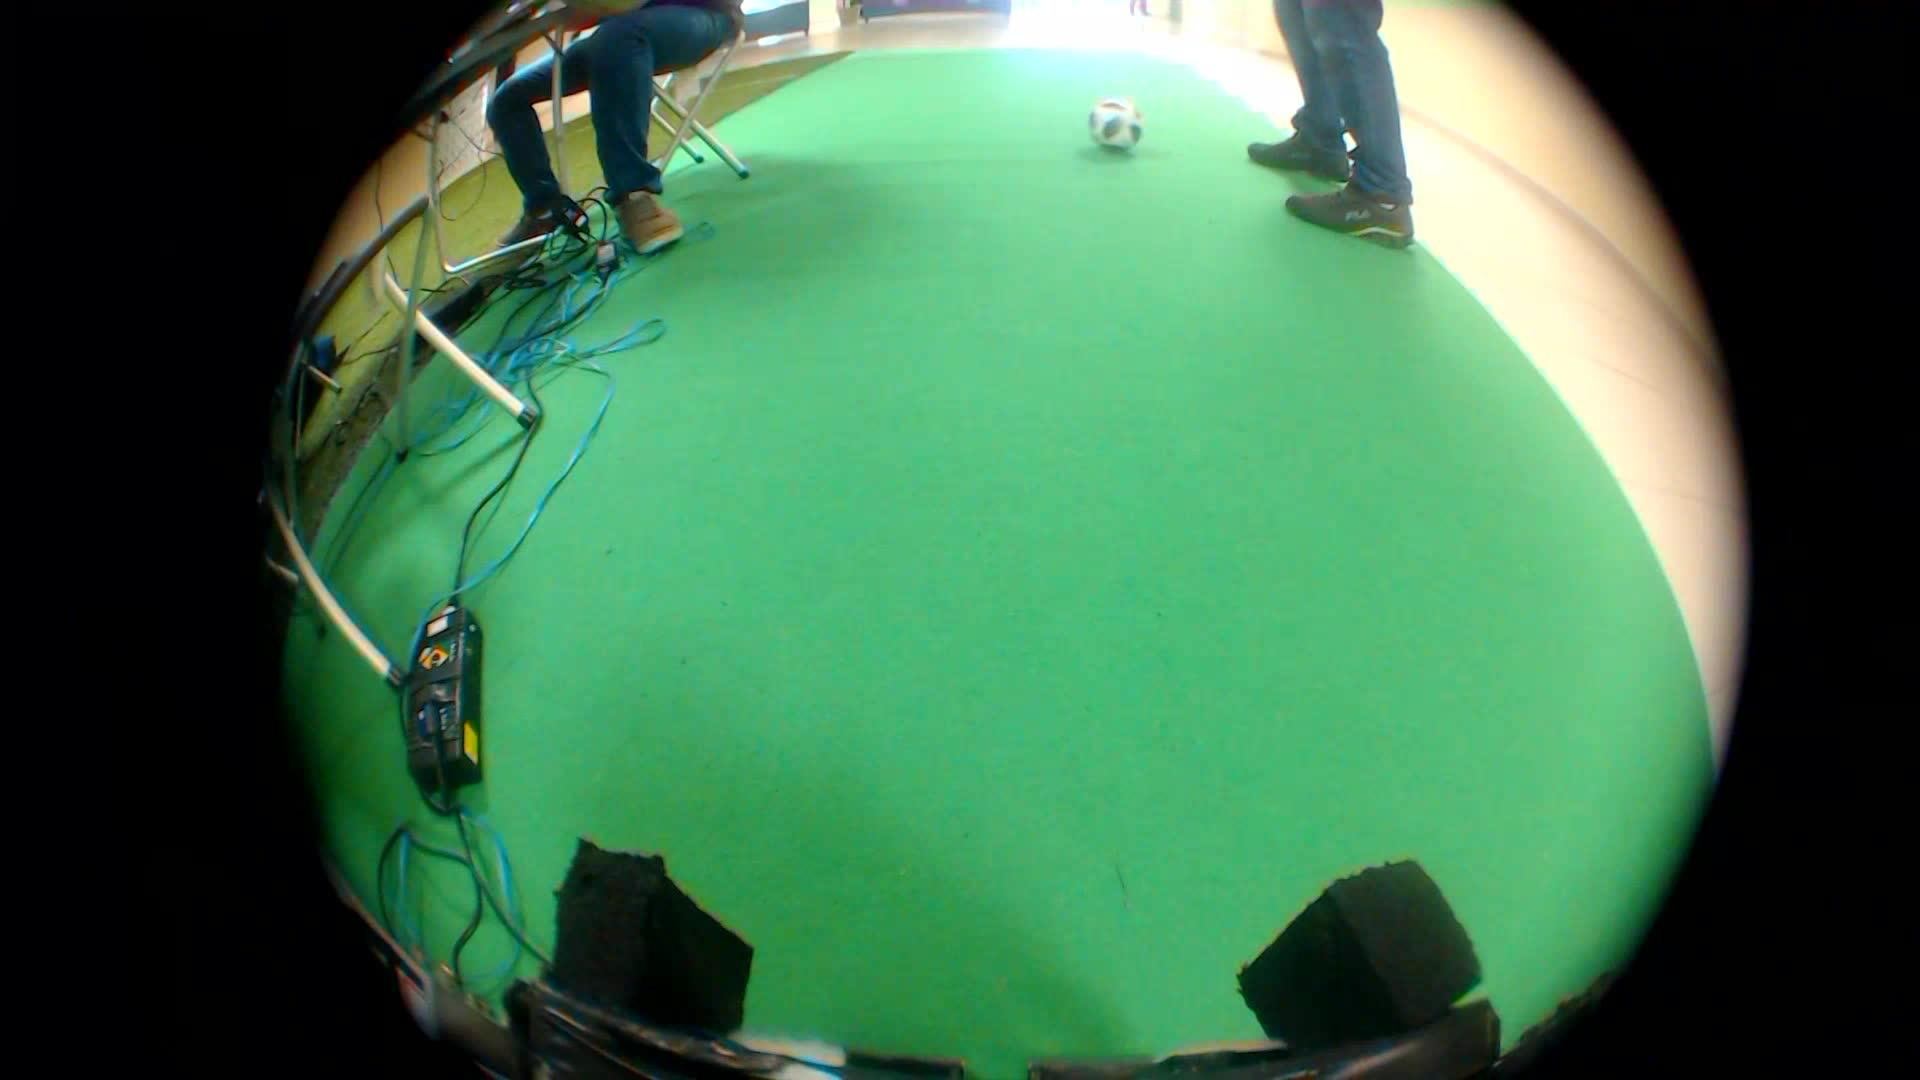ball: (1083, 84, 1151, 161)
